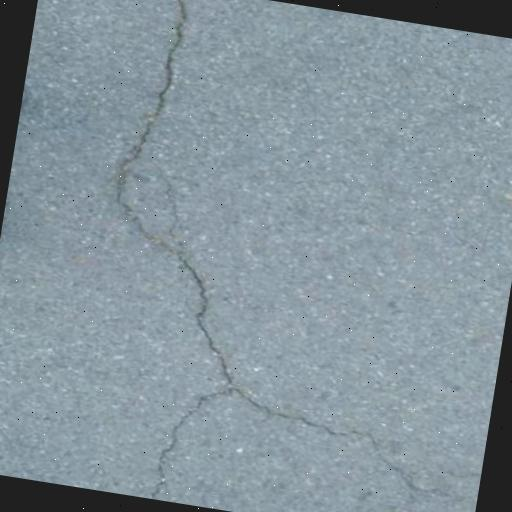spalling: (102, 0, 463, 509), (128, 370, 237, 501)
